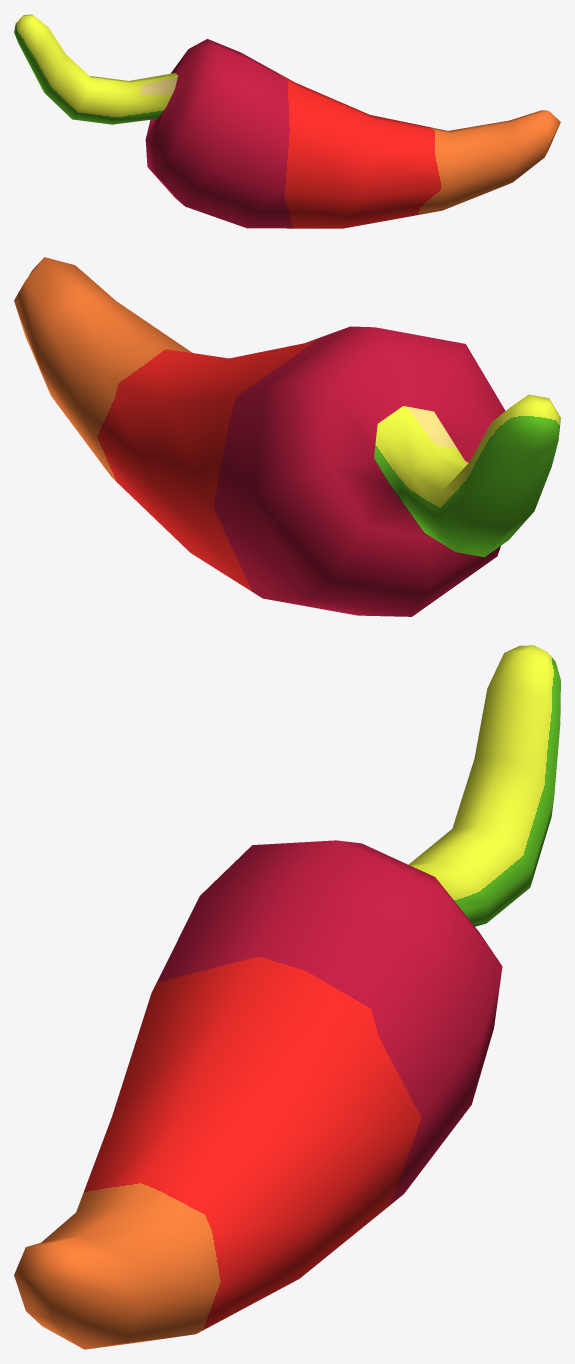
File: Chilli_Spell.fbx
3 renders of one model, top to bottom at view 1: azimuth 30°, elevation 25°; view 2: azimuth 150°, elevation 25°; view 3: azimuth 270°, elevation 25°, orthographic. The views are drawn at different scales.
Parts seen in each view (by area): view 1: Cube.003; view 2: Cube.003; view 3: Cube.003.
Part boxes in pixels (x1,y1,x2,y2): Cube.003: (14, 14, 560, 228); Cube.003: (14, 257, 560, 616); Cube.003: (14, 645, 560, 1349).
Bounding box in the file's own units: 280 × 132 × 158.
1 material, 1 textured.
